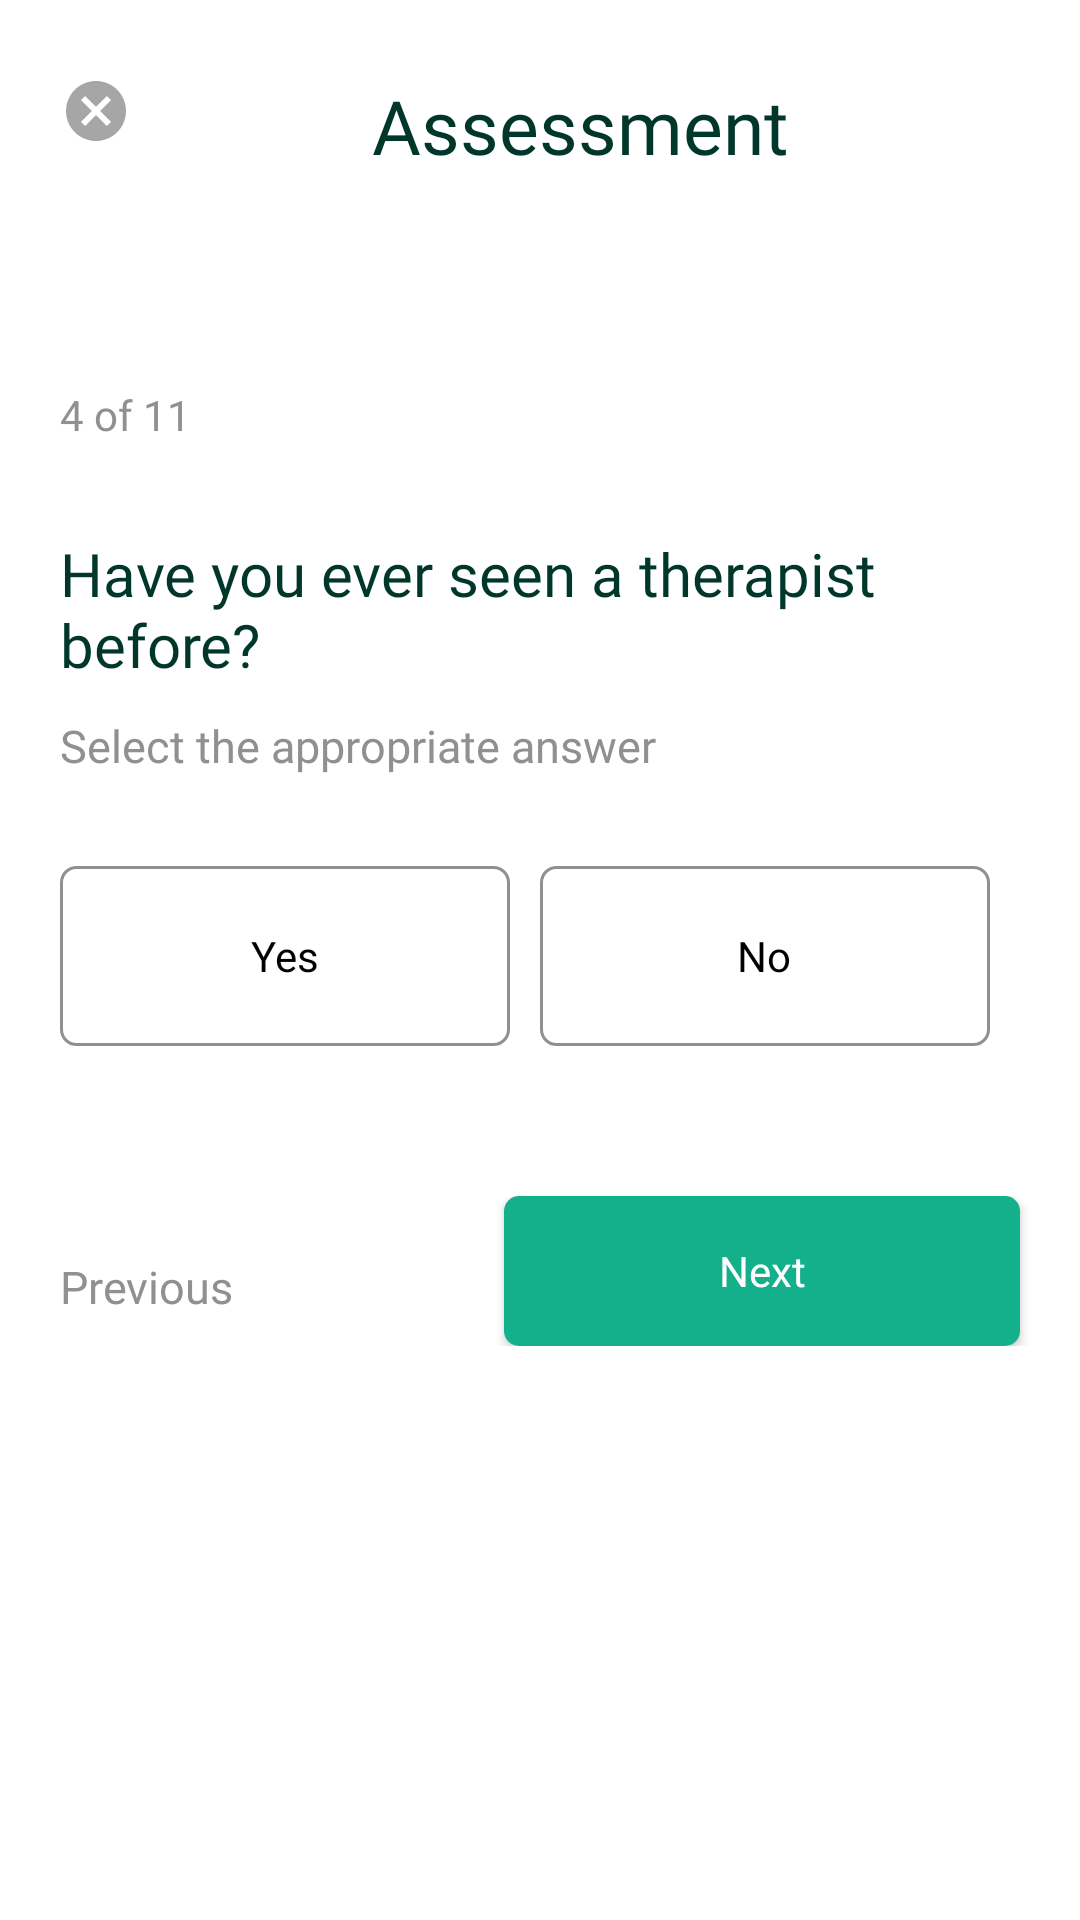

Where icons sit on this 1080*1920 app screen, as {"left": x1, "top": y1, "right": x2, "bottom": y2}:
cancel: {"left": 66, "top": 81, "right": 126, "bottom": 141}
